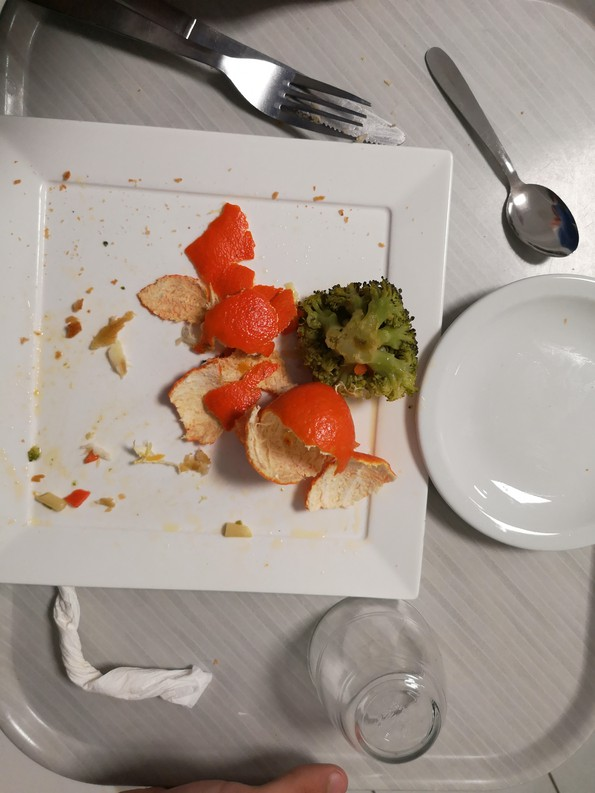cup: (309, 596, 482, 776)
cutlery: (36, 1, 414, 143), (412, 40, 595, 258)
orga: (169, 213, 291, 465), (306, 266, 430, 405), (253, 390, 389, 504)
trash: (40, 586, 226, 722)
